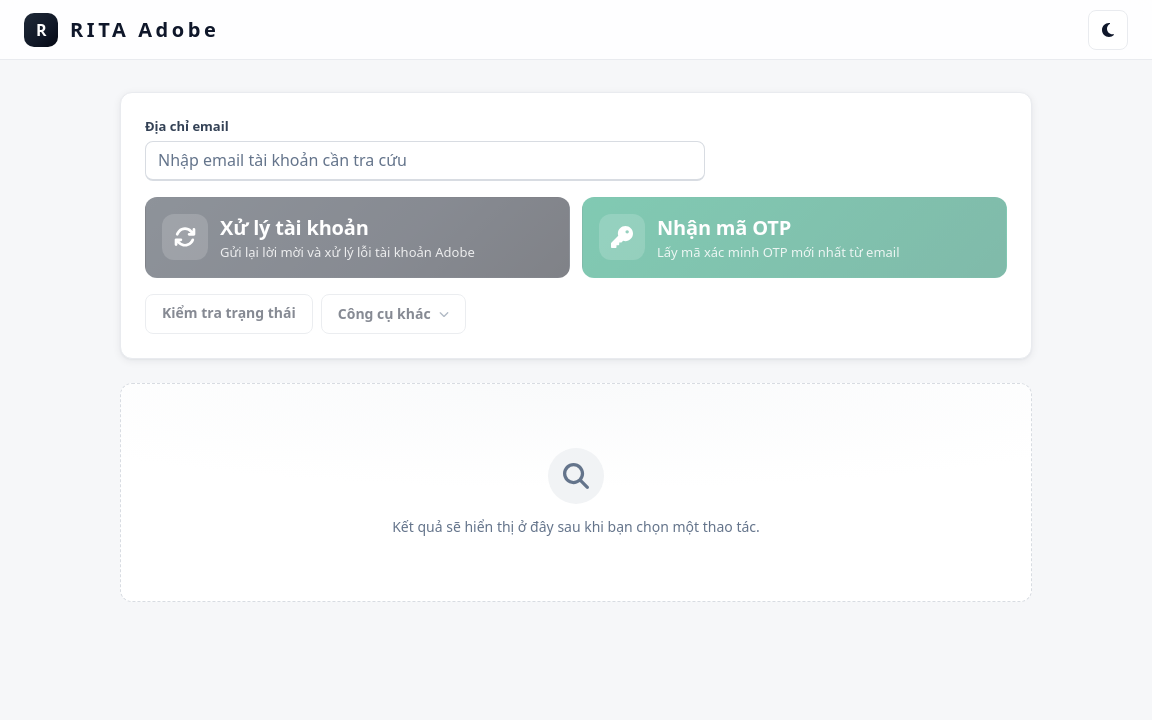
Scenario: App - dashboard operations route into panels › routes an account status API error into its panel
Step 1. Type "user@example.com" into the field named "Email address" → (425, 160), box [145,140,705,180]
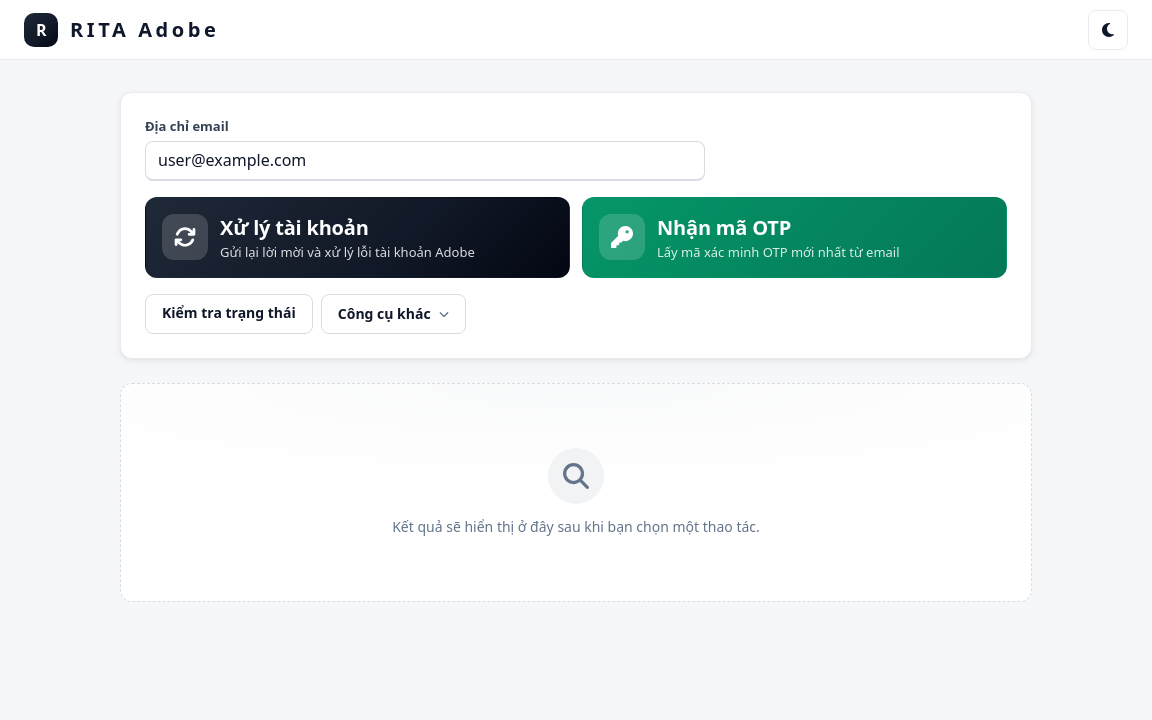
Expected: the button "Kiểm tra trạng thái" is enabled
Step 2. Click the button "Kiểm tra trạng thái" → (229, 314), box [145,294,313,334]
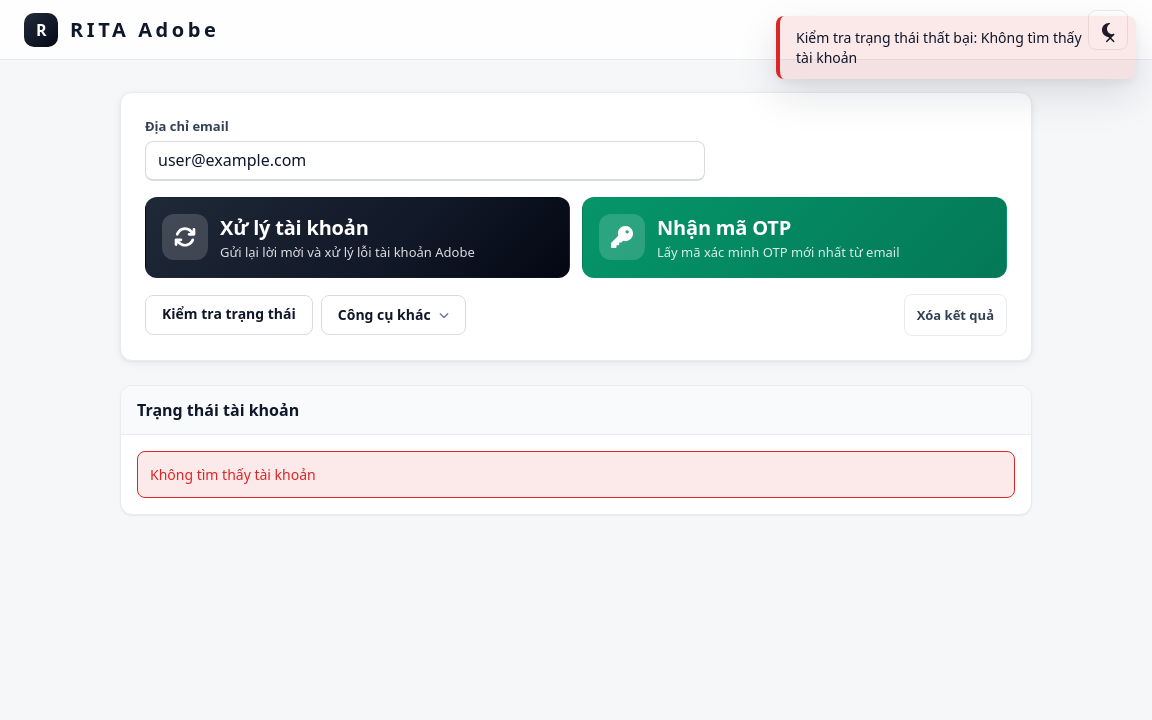
Expected: the message "Không tìm thấy tài khoản" is shown, [137,451,1015,498]
